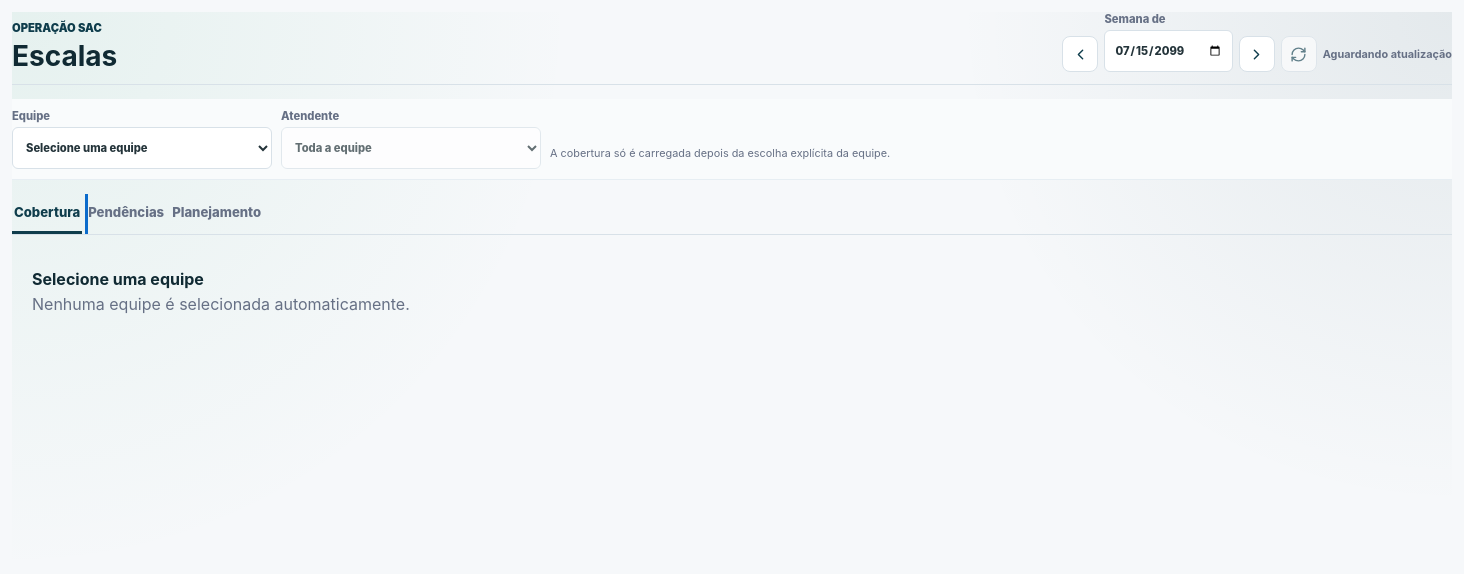
SupportSchedulesView › keeps the selected manager tab controlling the empty-state panel before a team is chosen
Expected: the text "Nenhuma equipe é selecionada automaticamente." is shown, [32,294,410,314]
Expected: the panel with id "support-schedules-coverage-panel" is shown, [32,269,410,314]
Press Arrowright
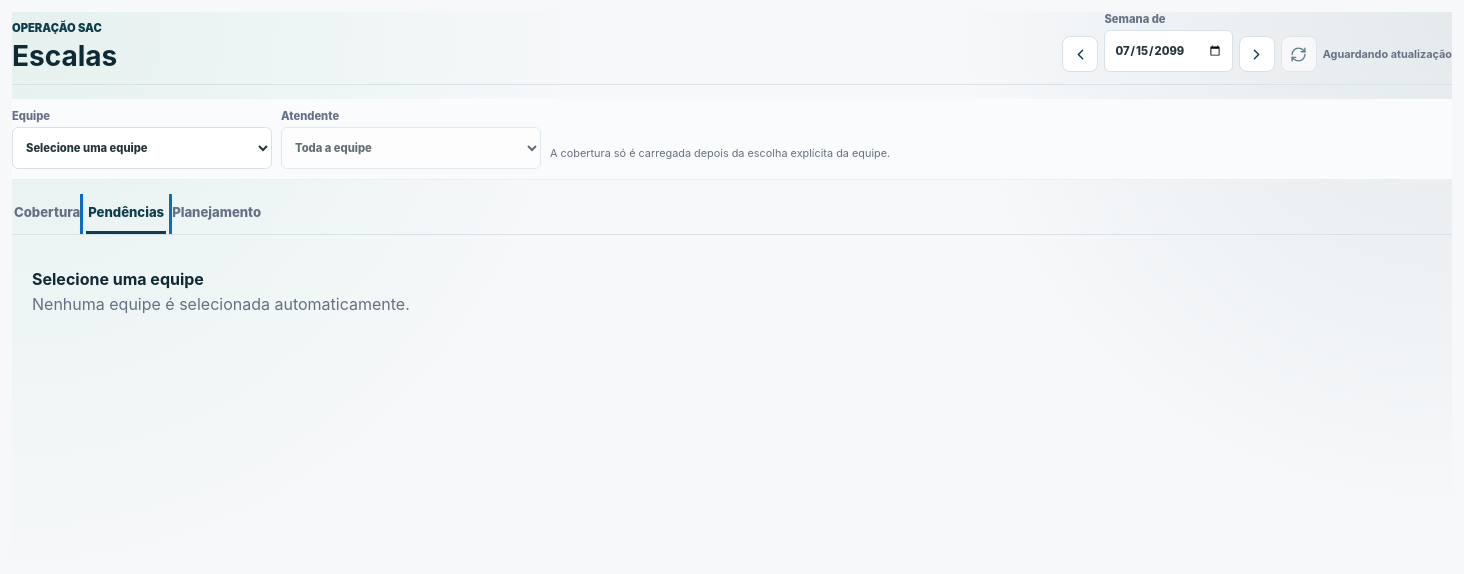
Expected: the panel is shown, [32,269,410,314]
Result: the tab "Pendências" is selected at [86,194,166,234]
Select "Atendimento" in the dropdown labelled "Equipe": (142, 148) [12,127,272,169]
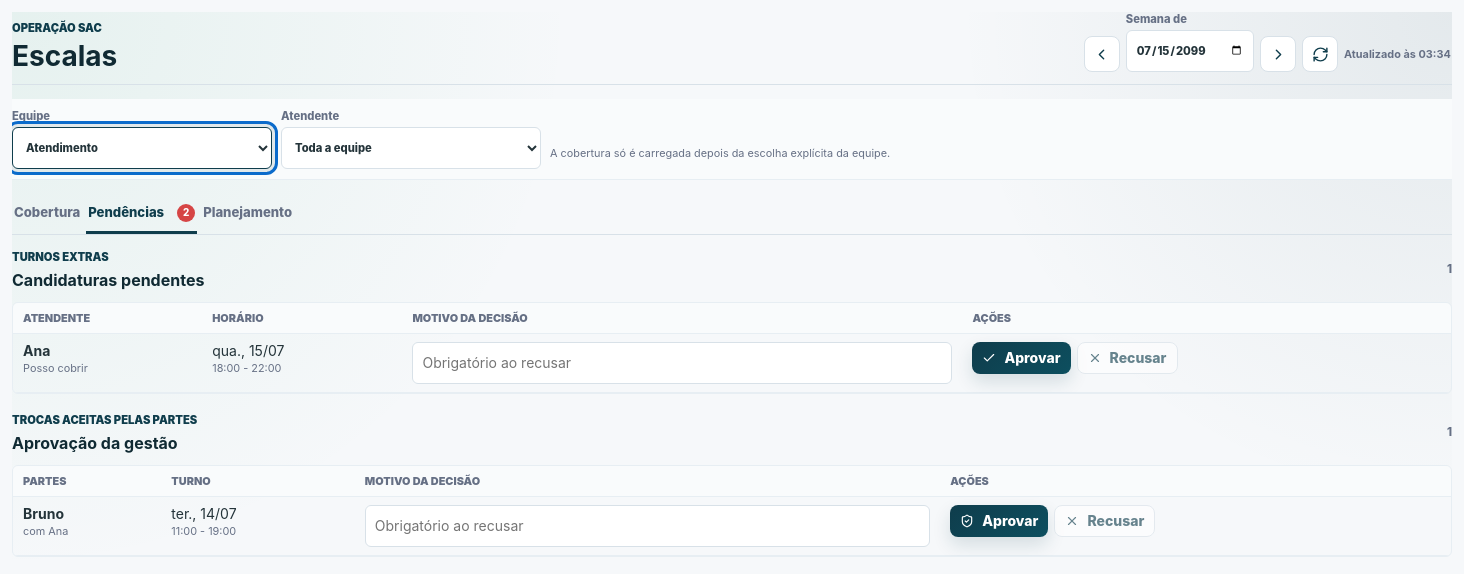
Result: the panel with id "support-schedules-pending-panel" is shown at [12,249,1452,557]
Result: the table named "Candidaturas a turnos extras" is shown at [13,303,1451,393]
